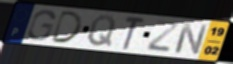D: (49, 10, 85, 45)
G: (26, 9, 57, 42)
N: (172, 22, 209, 57)
Q: (86, 14, 118, 48)
T: (121, 15, 147, 52)
Z: (144, 19, 181, 54)
